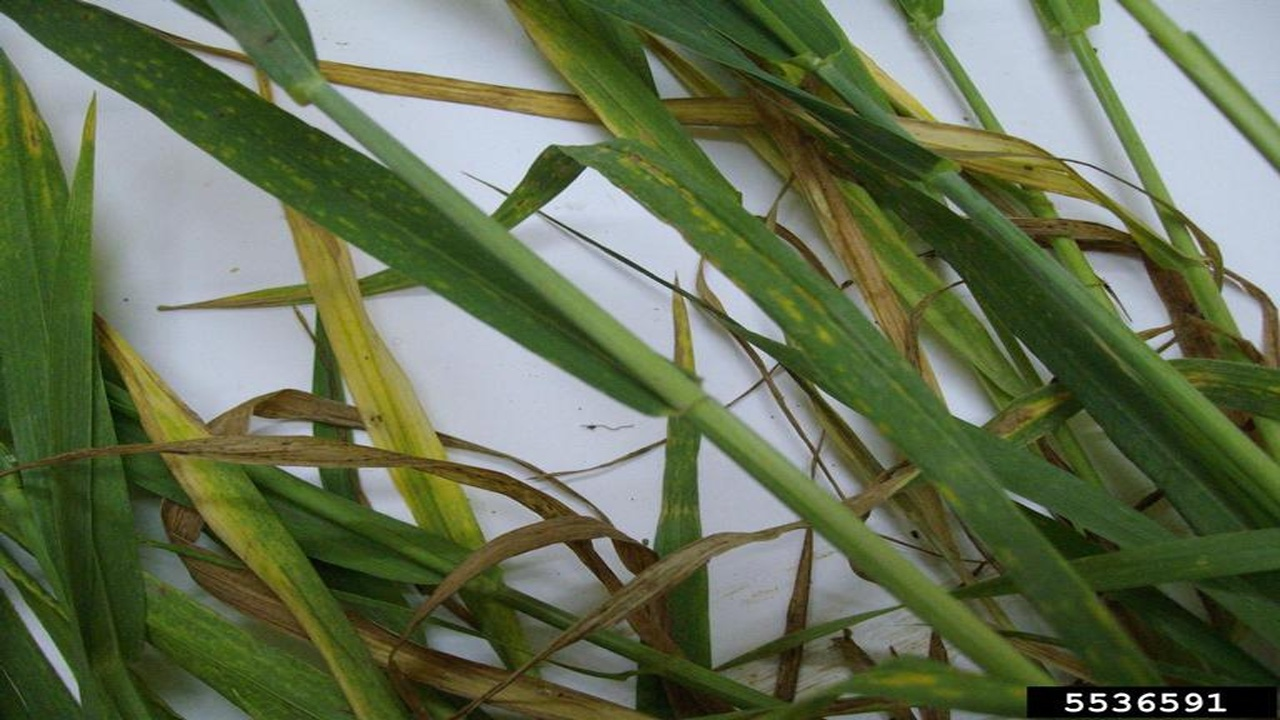tan_spot: (9, 1, 527, 305), (568, 146, 986, 476), (159, 151, 566, 307)
